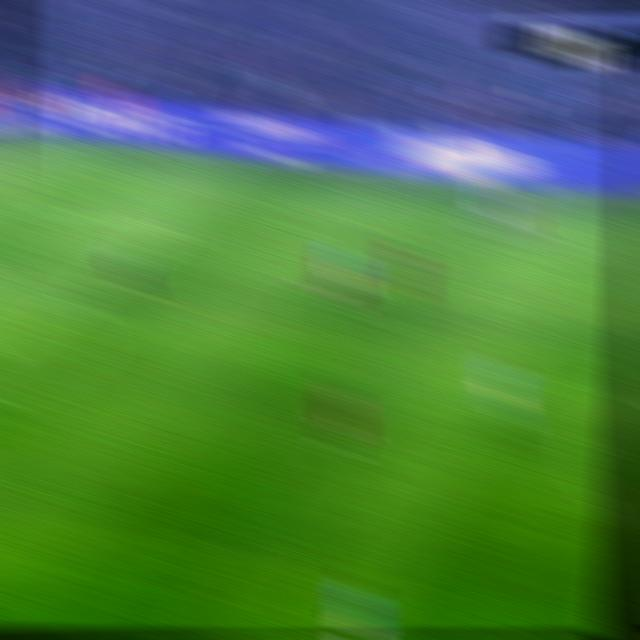bigarea_top_inner: (156, 214, 193, 242)
corner: (8, 129, 46, 150)
top_arc_area_intersection: (55, 285, 94, 314)
